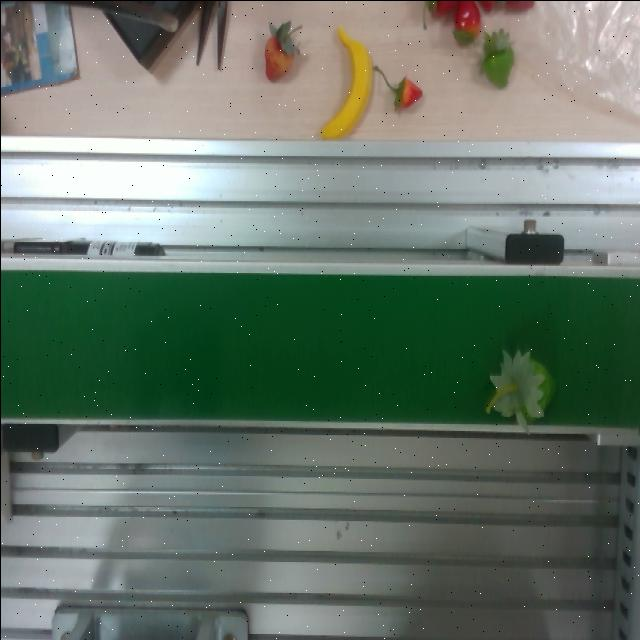Small Unripe Strawberry: (487, 349, 562, 420)
conveyor: (0, 264, 640, 438)
